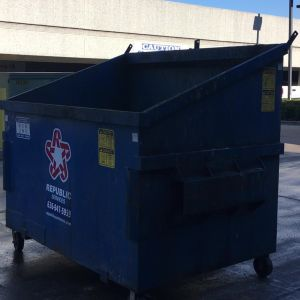Dumpster: (1, 28, 299, 300)
